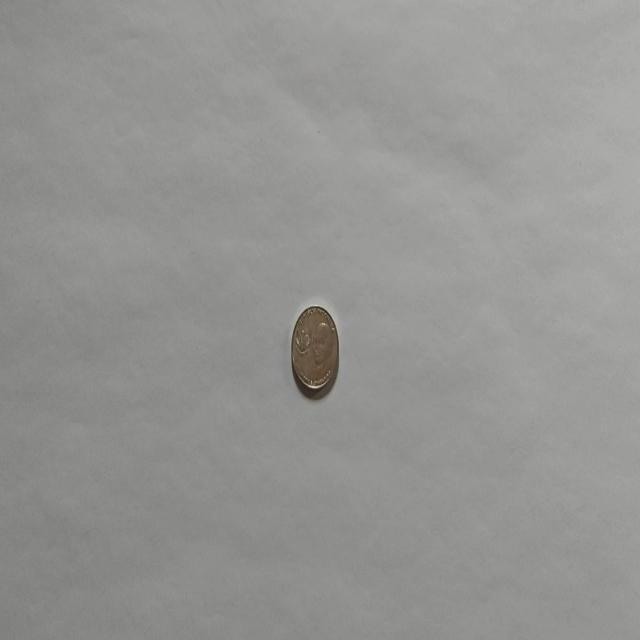lima ratus rupiah: (290, 303, 340, 397)
